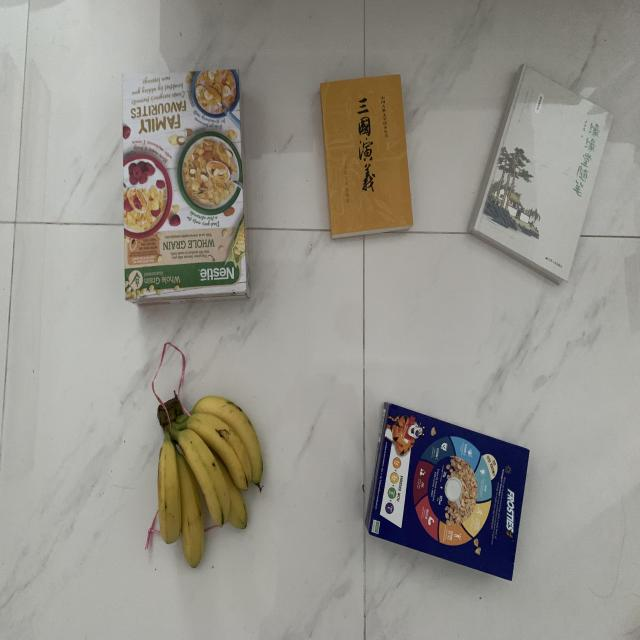Banana: (151, 390, 271, 572)
Book: (465, 60, 617, 287), (316, 71, 417, 242)
Cerealbox: (121, 63, 252, 310), (363, 397, 532, 584)
